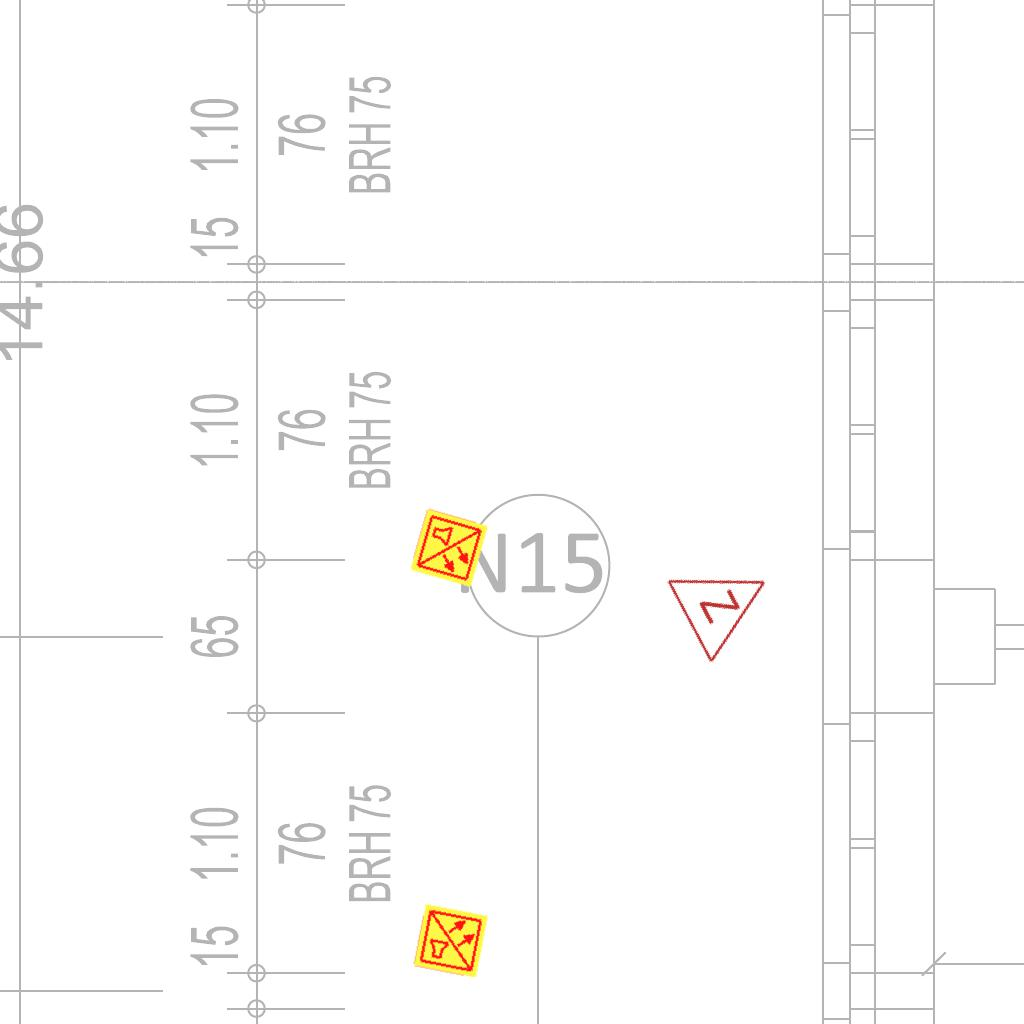OKW_Multisensormelder_(Kombination_optischer_Rauch-Kahlenmonoxid_Waerme-Melder): (408, 507, 490, 589), (412, 902, 490, 980)
Zimmersignalleuchte: (658, 534, 794, 668)
